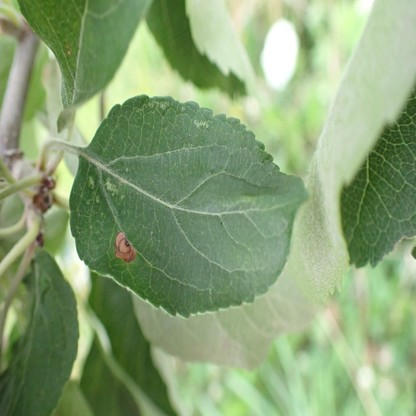frogeye: (116, 231, 136, 263)
